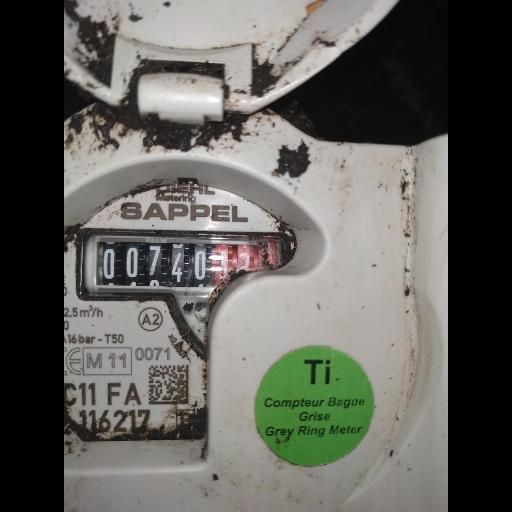0: (120, 243, 143, 285), (97, 243, 119, 286), (192, 244, 213, 287)
2: (234, 244, 254, 280)
4: (167, 244, 191, 287)
5: (214, 244, 235, 286)
7: (143, 244, 166, 287)
border_water_meter_number: (75, 229, 292, 302)
